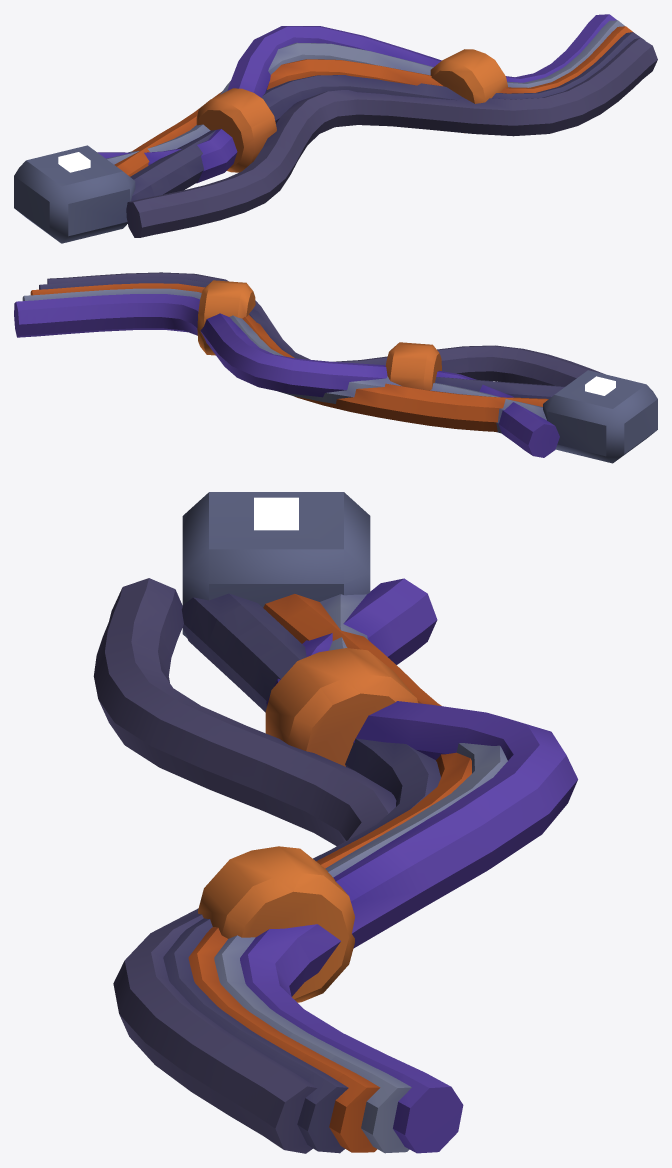
File: hub_prop_cable_bundle.glb
3 renders of one model, top to bottom at view 1: azimuth 30°, elevation 25°; view 2: azimuth 150°, elevation 25°; view 3: azimuth 270°, elevation 25°, orthographic. The views are drawn at different scales.
Parts seen in each view (by area): view 1: hub_prop_cable_bundle; view 2: hub_prop_cable_bundle; view 3: hub_prop_cable_bundle.
Boxes of the visible parts, <box> form: hub_prop_cable_bundle: <box>14,14,657,243</box>; hub_prop_cable_bundle: <box>14,272,657,463</box>; hub_prop_cable_bundle: <box>93,492,577,1153</box>.
Bounding box in the file's own units: 3.66 × 0.43 × 1.29.
